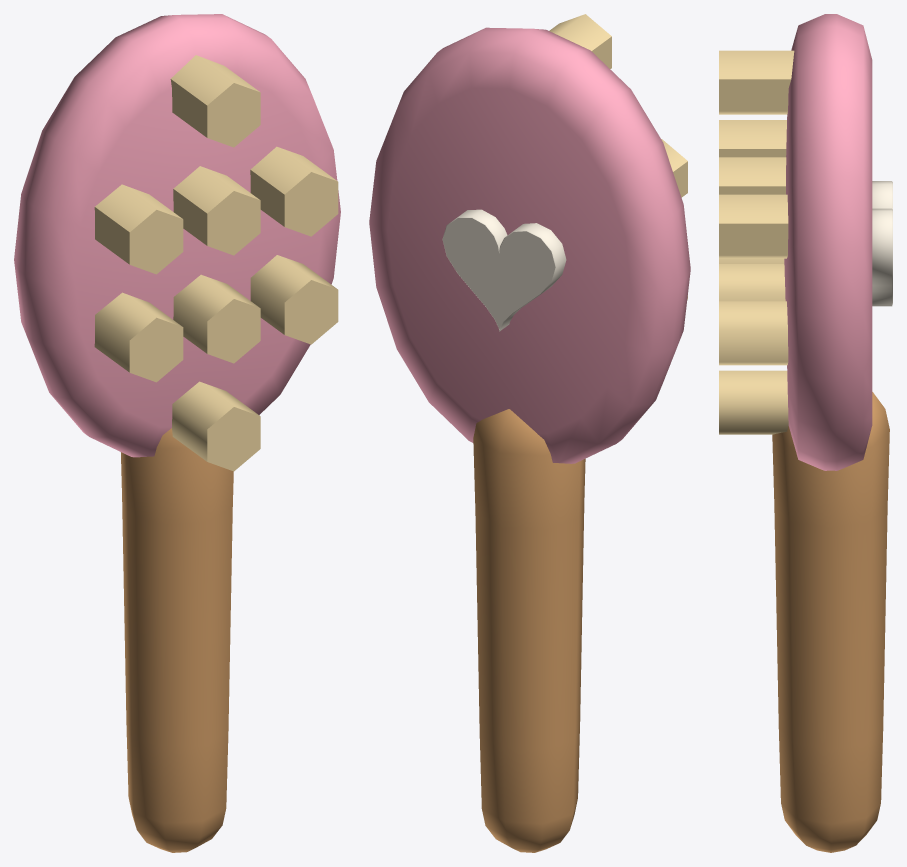
Rendered from item_brush.glb.
The picture shows the model from 3 angles, left to right: view 1: azimuth 30°, elevation 25°; view 2: azimuth 150°, elevation 25°; view 3: azimuth 270°, elevation 25°; orthographic projection.
Visible parts, largest first — view 1: item_brush; view 2: item_brush; view 3: item_brush.
Part boxes in pixels (box(x1,y1,x2,y2)): item_brush: box(14, 14, 340, 852); item_brush: box(369, 14, 690, 852); item_brush: box(719, 14, 892, 852).
Size of the model in its own units: 0.12 by 0.308 by 0.059.
